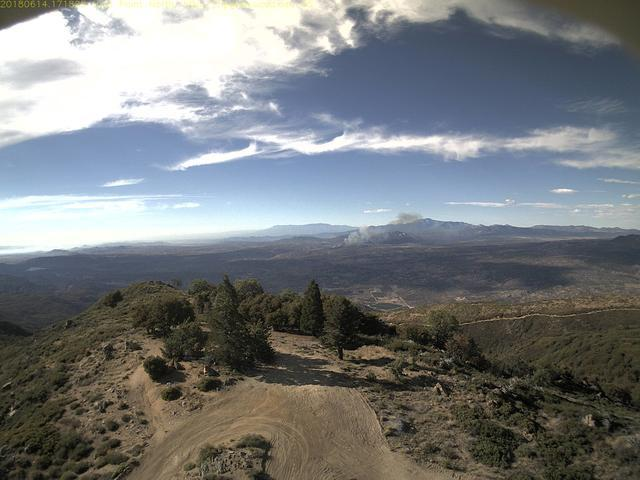smoke: (324, 211, 426, 252)
